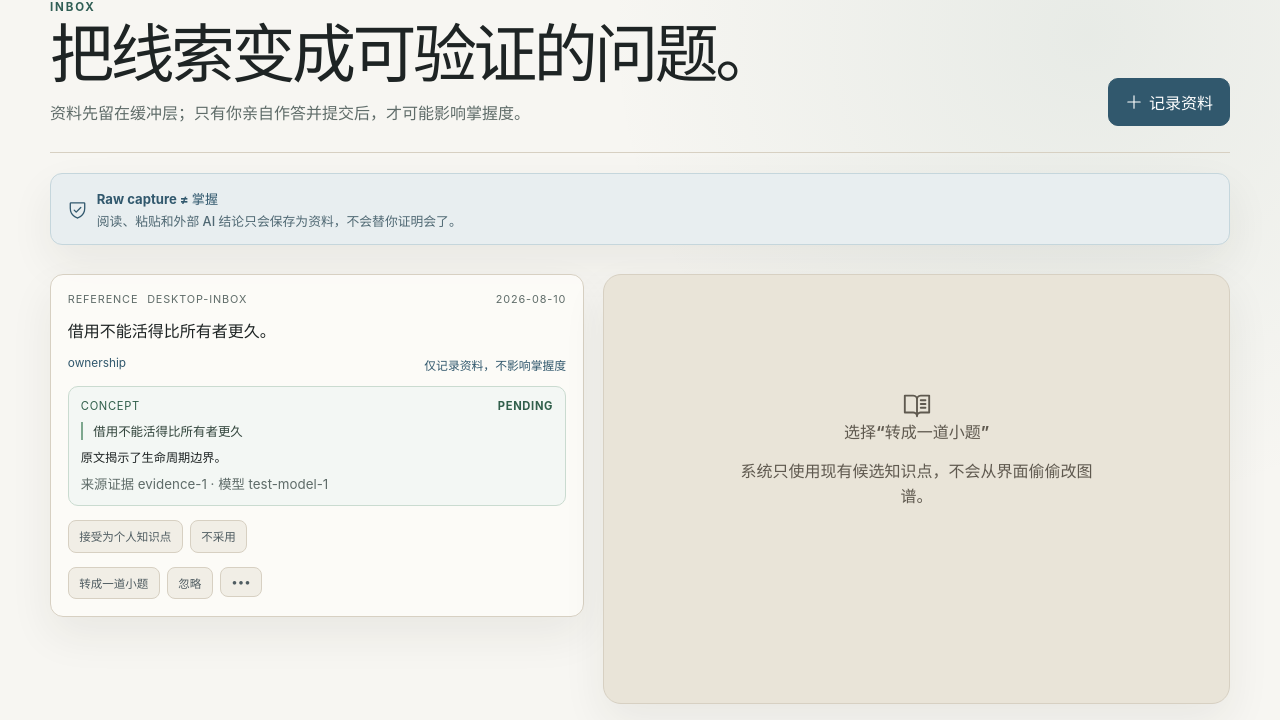
Scenario: InboxPage › restores an Inbox practice draft after it is reopened
Step 1. Click the button "转成一道小题" → (114, 583), box [68,567,160,599]
(page scrolled)
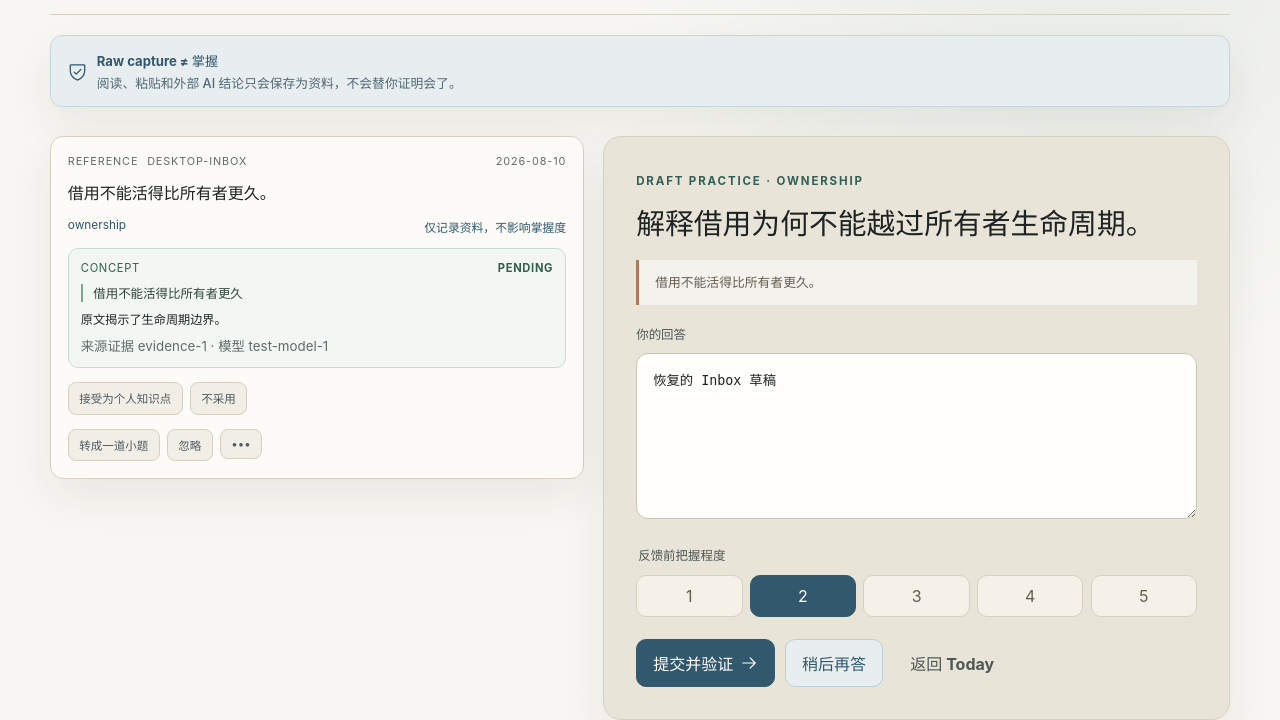
Check: the text box showing "恢复的 Inbox 草稿" is shown, box [636,353,1197,519]
